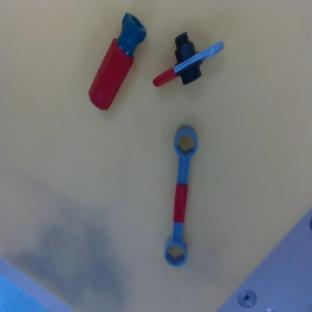part_1_good: (144, 17, 226, 104)
part_2_good: (83, 12, 151, 113)
part_3_good: (163, 124, 199, 267)
